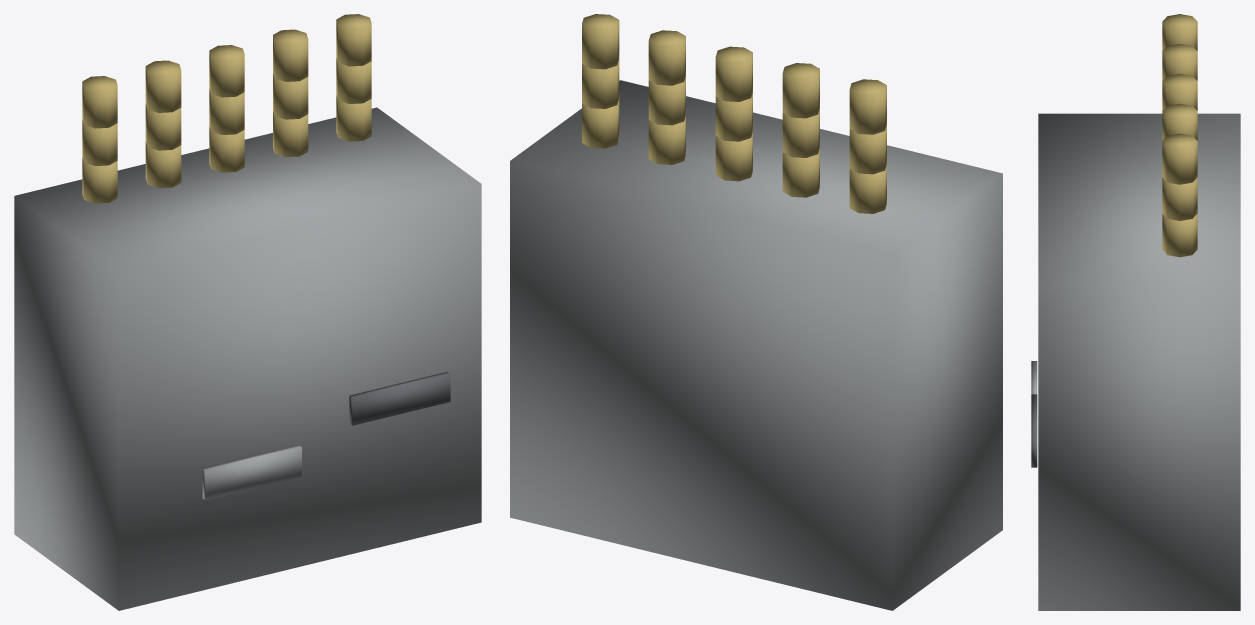
File: votive_candle_stand__weathered.glb
The picture shows the model from 3 angles, left to right: view 1: azimuth 30°, elevation 25°; view 2: azimuth 150°, elevation 25°; view 3: azimuth 270°, elevation 25°; orthographic projection. The views are drawn at different scales.
Parts seen in each view (by area): view 1: world; view 2: world; view 3: world.
Boxes of the visible parts, box(x1,y1,x2,y2) form: world: box(14, 14, 481, 610); world: box(510, 14, 1002, 610); world: box(1031, 14, 1240, 610).
Size of the model in its own units: 0.8 by 0.9702 by 0.414.
